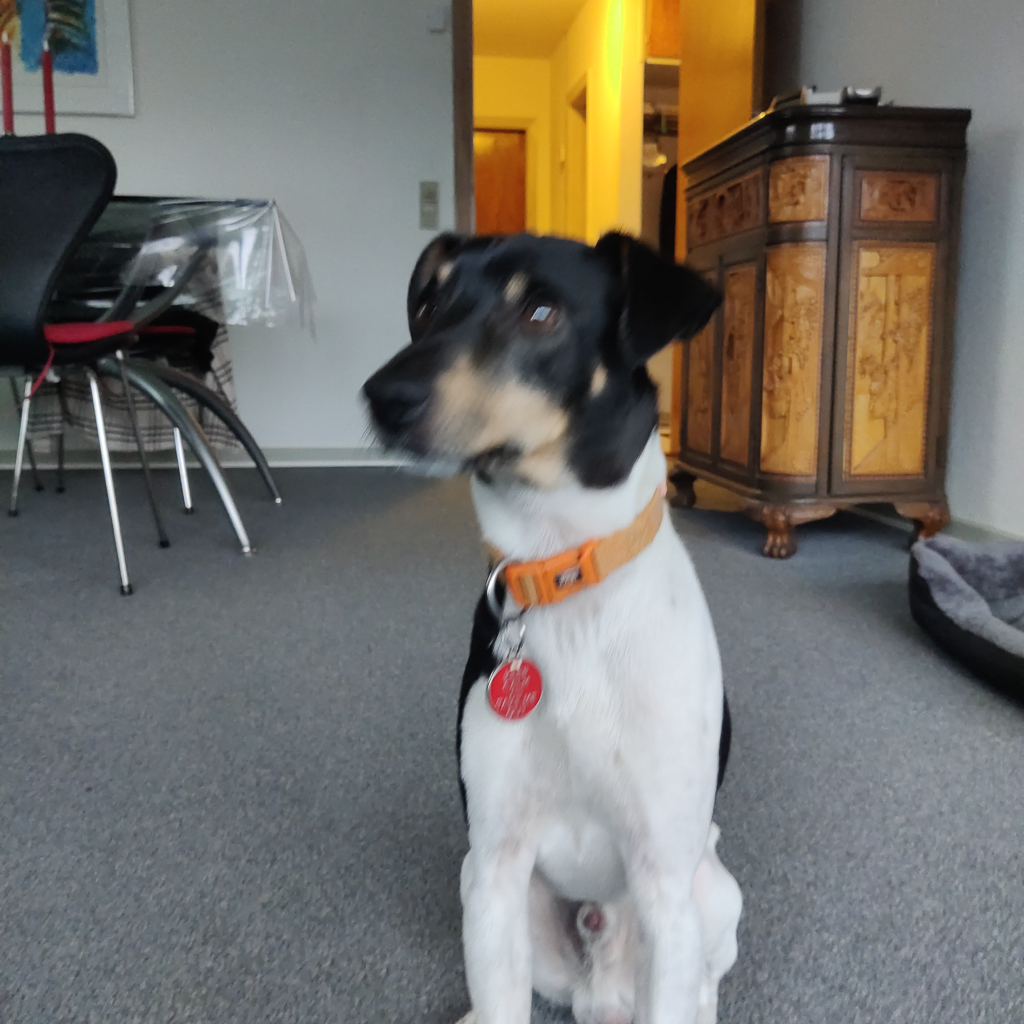Dog: (340, 207, 791, 1024)
